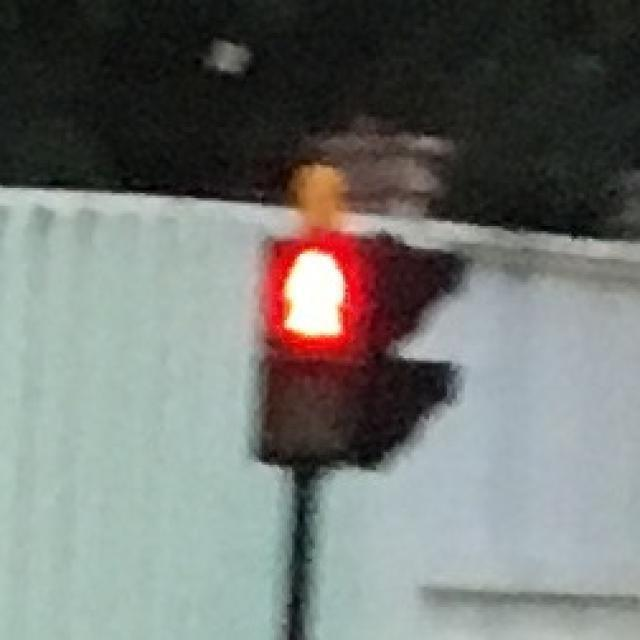red-crossing: (270, 238, 358, 354)
